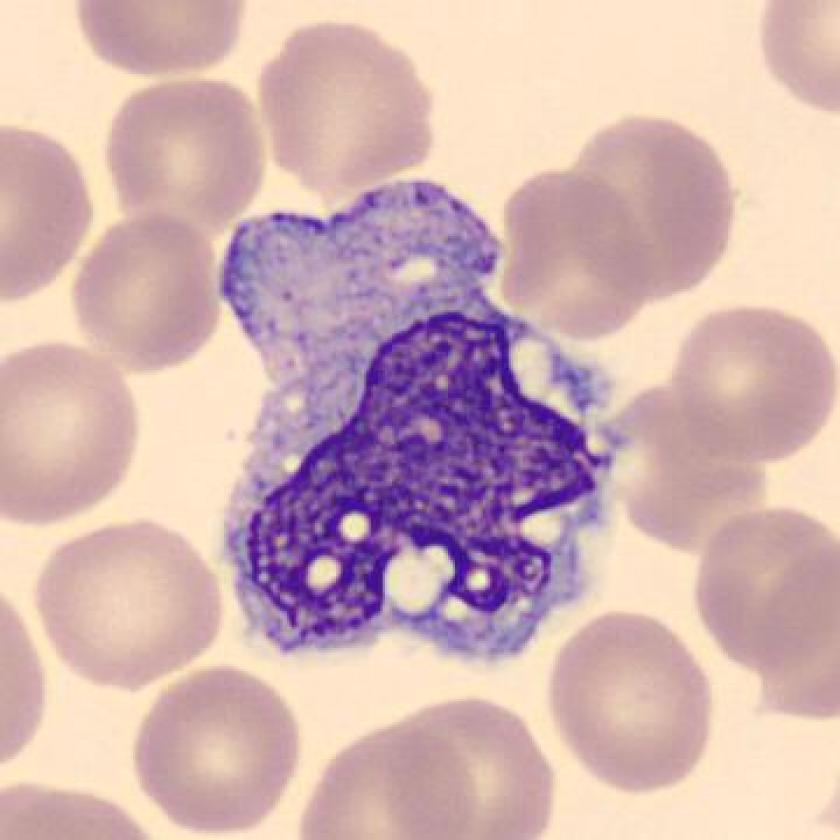monocyte: (178, 154, 652, 686)
